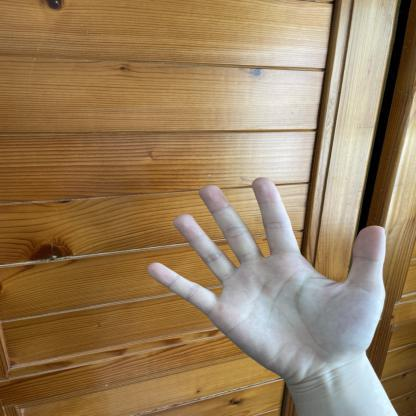bare_hand: (141, 168, 396, 388)
